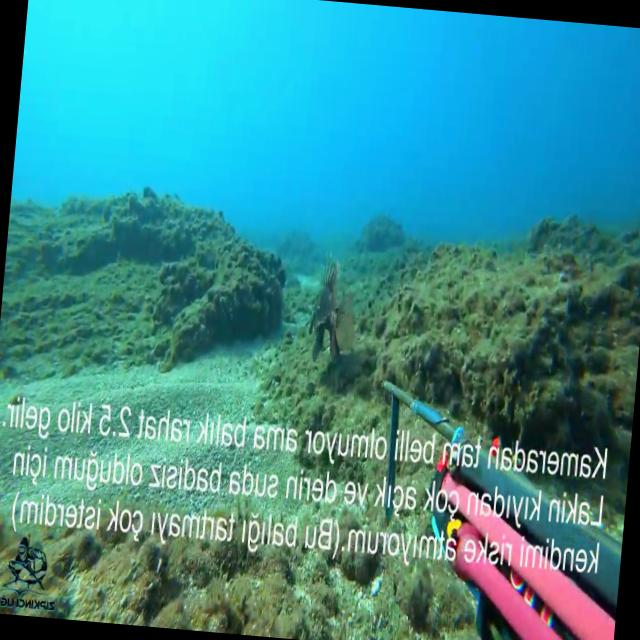Aslan Baligi: (298, 240, 362, 364)
